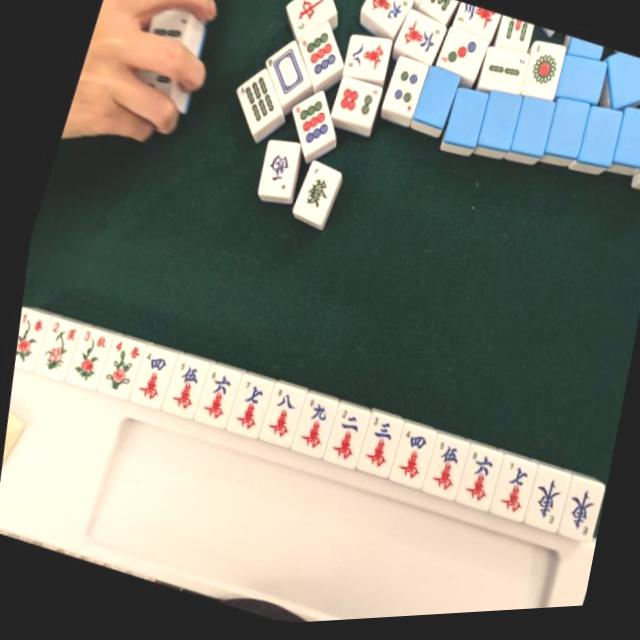bs1: (5, 304, 46, 370)
bs2: (23, 312, 78, 383)
bs3: (56, 321, 110, 392)
bs4: (86, 332, 142, 403)
hwe: (512, 469, 566, 542), (547, 480, 600, 551)
sc2: (311, 403, 366, 475)
sc3: (345, 411, 401, 484)
sc4: (118, 341, 176, 414), (378, 423, 432, 495)
sc5: (151, 352, 206, 422), (412, 435, 464, 505)
sc6: (183, 361, 238, 432), (444, 445, 498, 517)
sc7: (476, 457, 534, 530), (214, 372, 270, 443)
sc8: (247, 380, 303, 453)
sc9: (279, 392, 335, 465)
